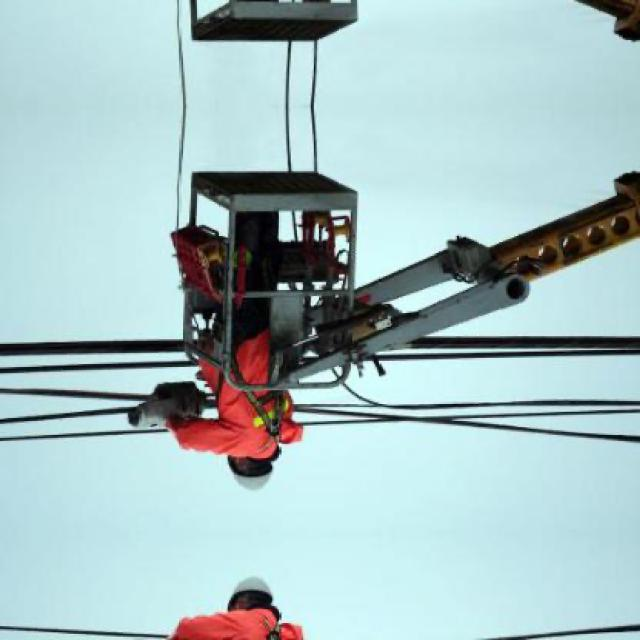con casco: (202, 437, 288, 506)
